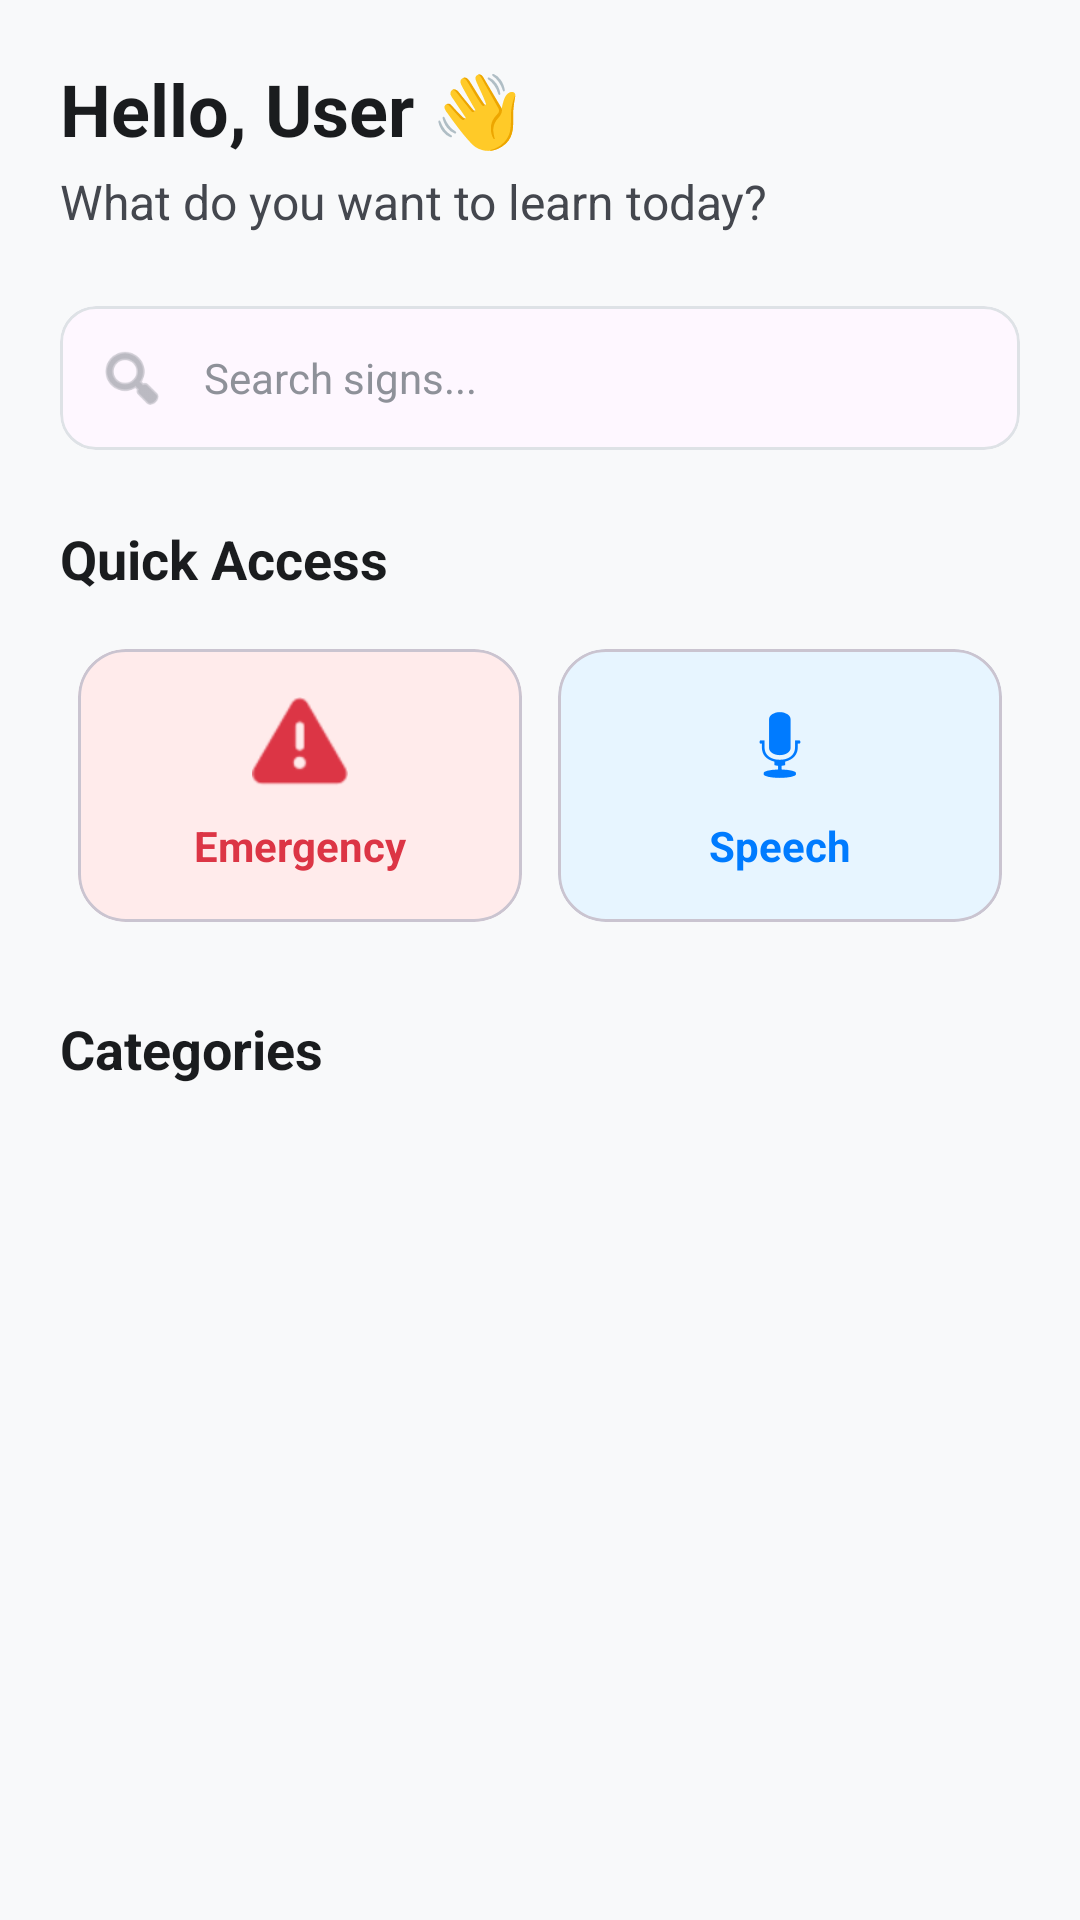

Screen size 1080x1920. Icon name, then its center in pixels as (x=x, y=y):
alert: (x=300, y=741)
speak now: (x=780, y=745)
